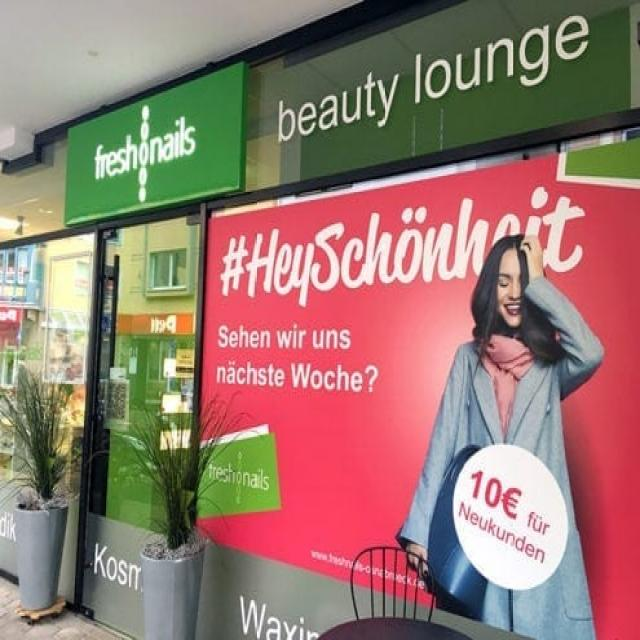Werbetafel frei: (191, 130, 640, 640)
